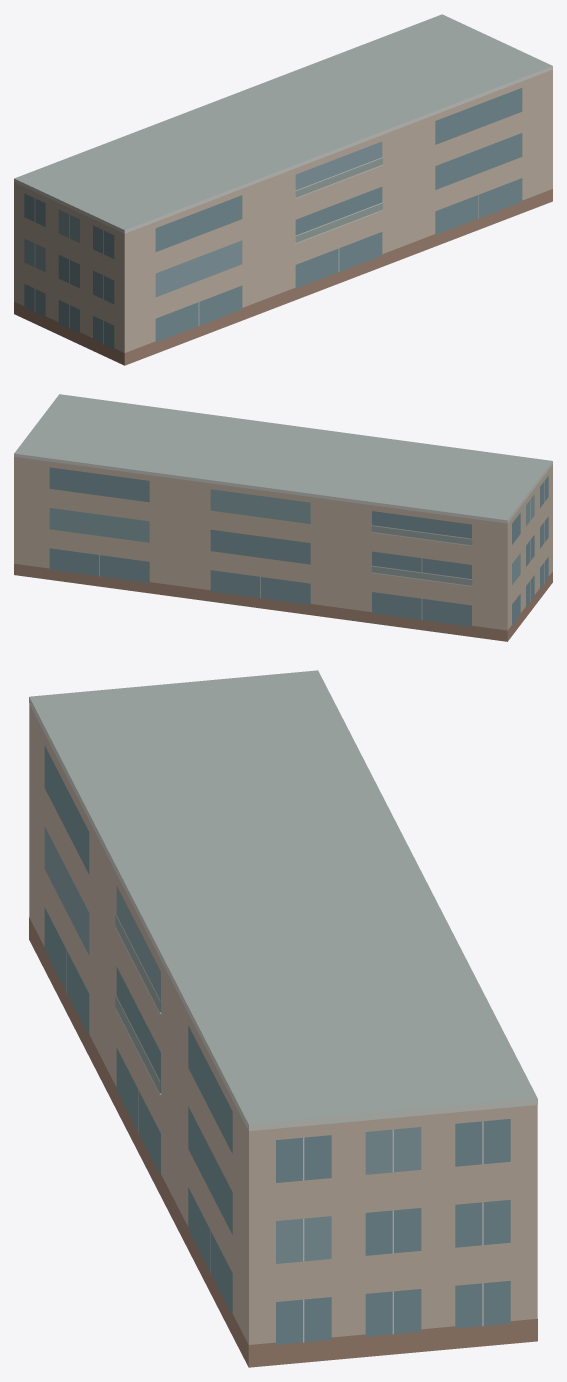
File: survey-upis-32696850.glb
The picture shows the model from 3 angles, top to bottom: view 1: azimuth 30°, elevation 25°; view 2: azimuth 150°, elevation 25°; view 3: azimuth 270°, elevation 25°; orthographic projection. The views are drawn at different scales.
Visible parts, largest first — view 1: survey-upis-32696850.tmp; view 2: survey-upis-32696850.tmp; view 3: survey-upis-32696850.tmp.
Part boxes in pixels (x1=…): survey-upis-32696850.tmp: x1=14, y1=14, x2=552, y2=365; survey-upis-32696850.tmp: x1=14, y1=394, x2=552, y2=641; survey-upis-32696850.tmp: x1=29, y1=670, x2=537, y2=1367.
Bounding box in the file's own units: 36.72 × 9.15 × 17.38.
